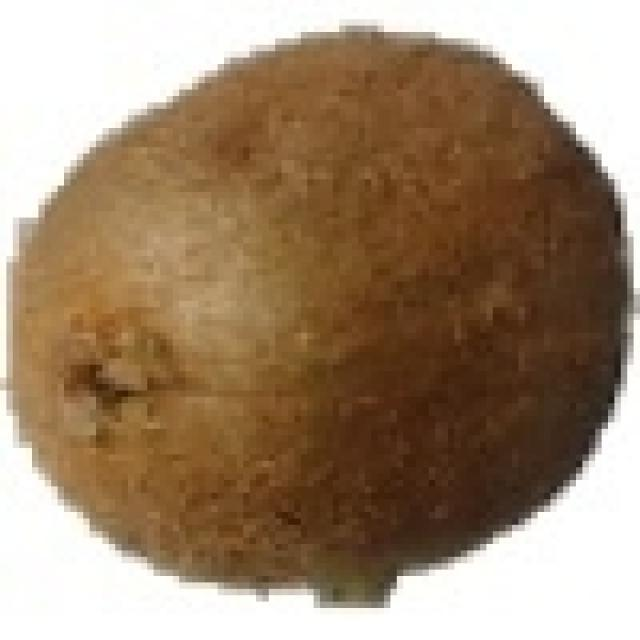kiwi: (6, 26, 614, 589)
